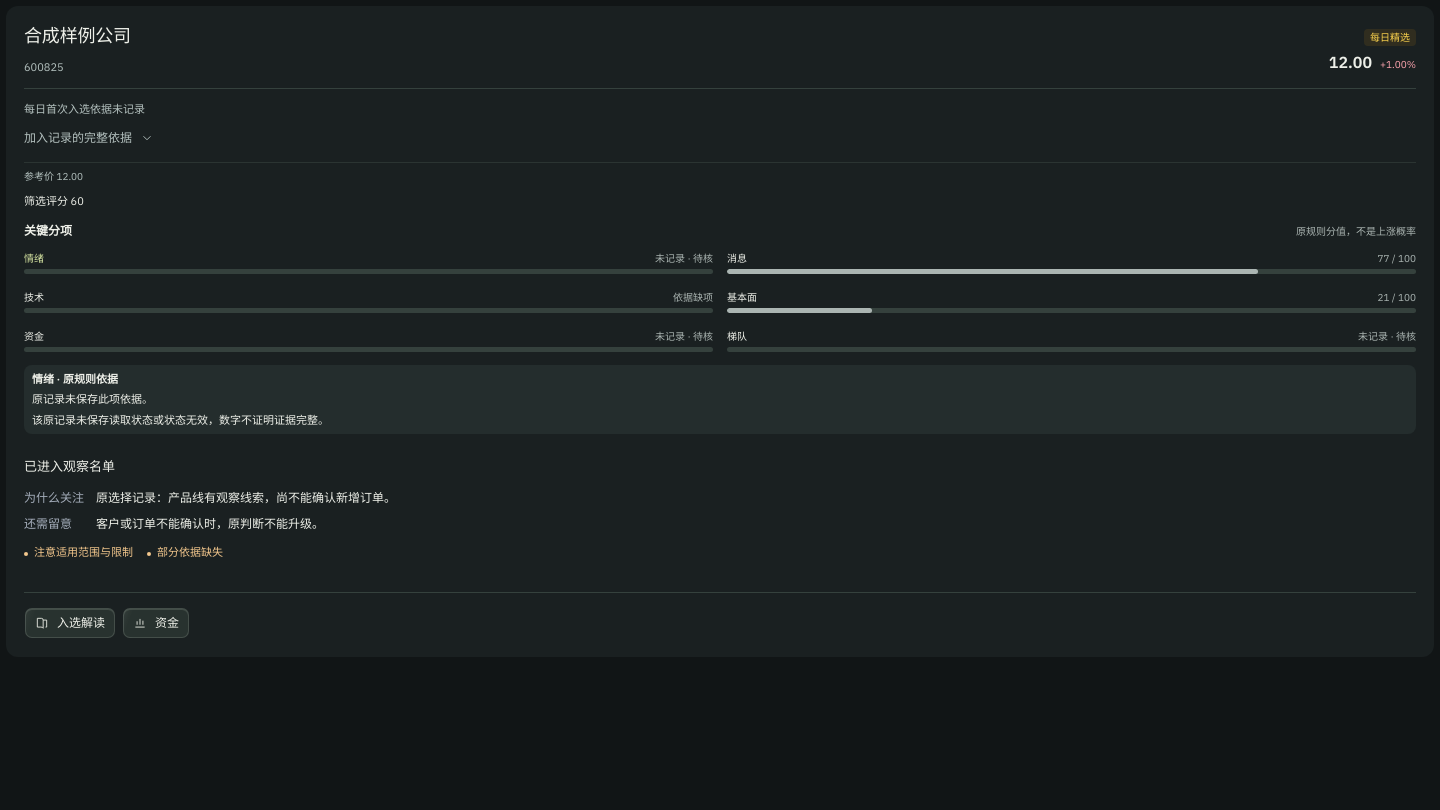
Test case: pick shows company evidence, conditional impact and risks without requiring an expansion
Click the button "入选解读". click: (70, 623)
box: x1=24 y1=607 x2=116 y2=639
(page scrolled)
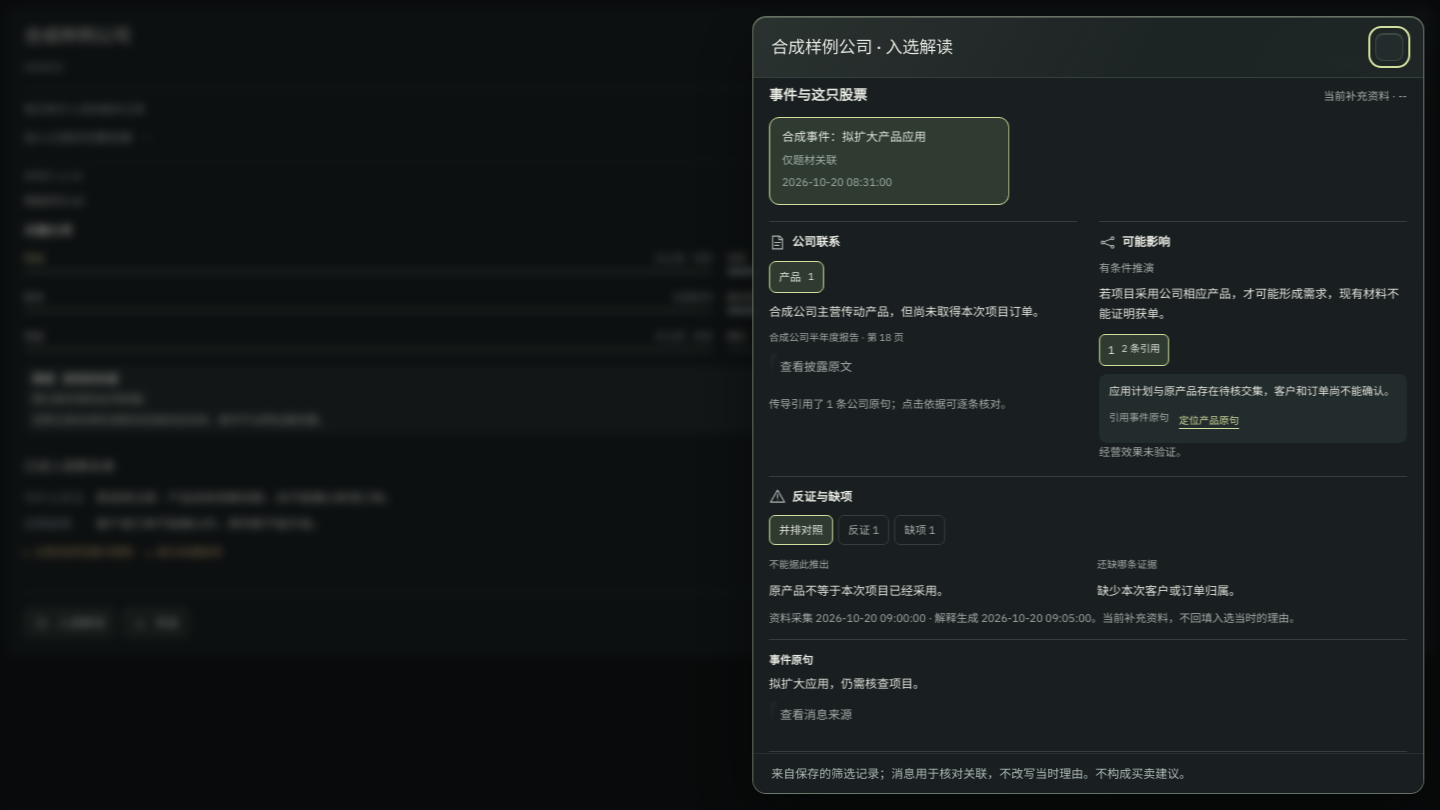
Check: the element named "当前事件公司原句" shows "合成公司主营传动产品，但尚未取得本次项目订单。", box x1=769 y1=304 x2=1045 y2=319
Check: the element named "当前事件公司原句" shows "第 18 页", box x1=769 y1=302 x2=1077 y2=383
Check: the element named "当前事件影响解释" reads "若项目采用公司相应产品，才可能形成需求，现有材料不能证明获单。", box x1=1099 y1=286 x2=1399 y2=321
